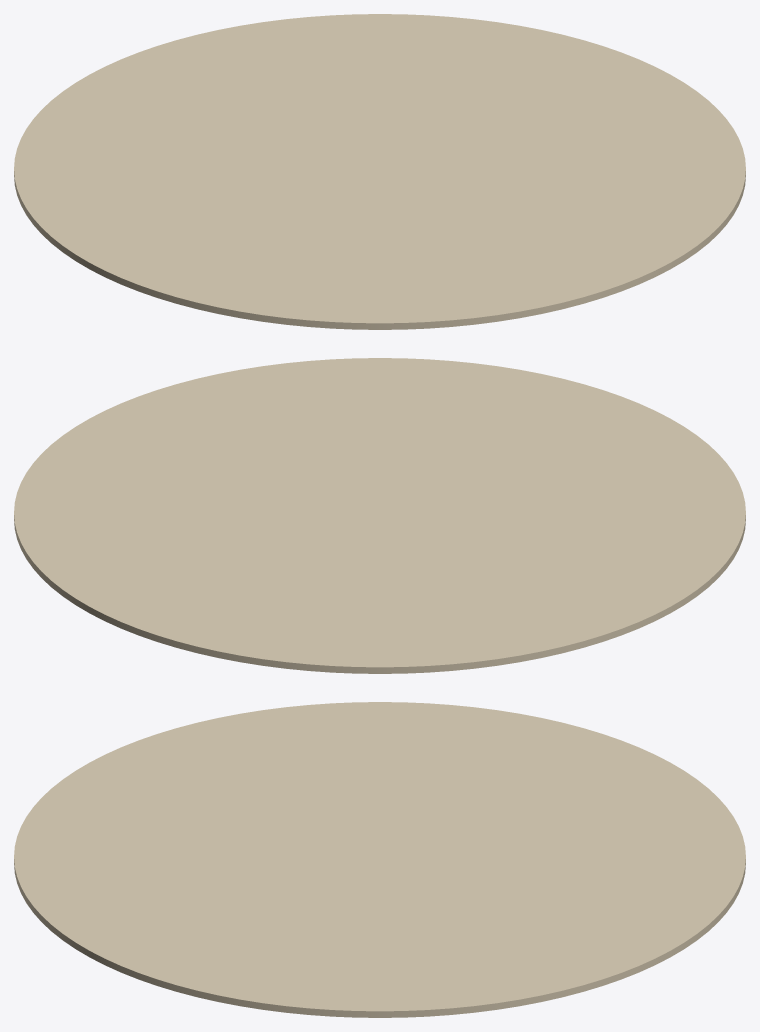
Rendered from rug-round.glb.
3 views of the same model, one above another, from view 1: azimuth 30°, elevation 25°; view 2: azimuth 150°, elevation 25°; view 3: azimuth 270°, elevation 25° (orthographic).
Parts seen in each view (by area): view 1: rug; view 2: rug; view 3: rug.
Part boxes in pixels (left/top/right/bottom): rug: left=14, top=14, right=745, bottom=329; rug: left=14, top=358, right=745, bottom=673; rug: left=14, top=702, right=745, bottom=1017.
Bounding box in the file's own units: 1 × 0.01 × 1.
1 material, 1 textured.
